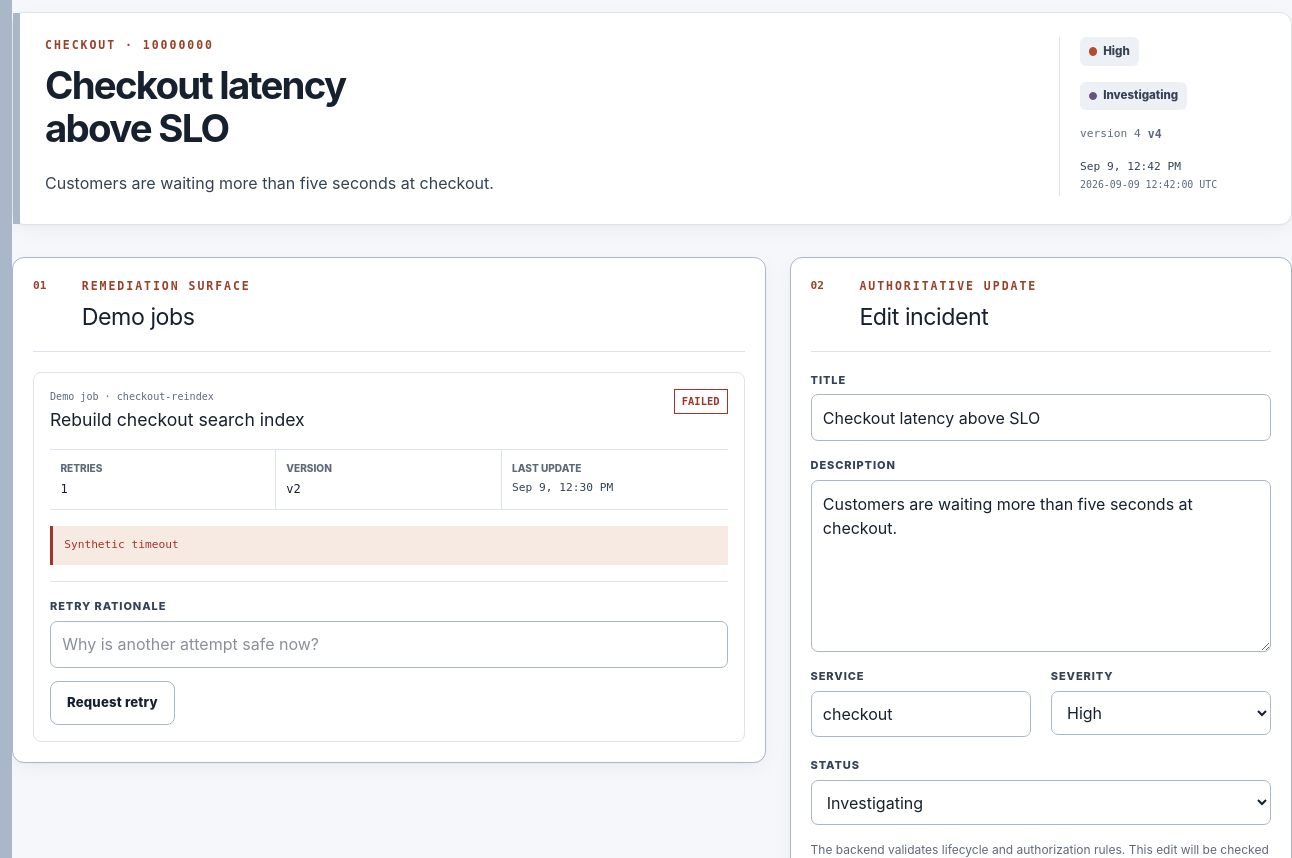
Test: IncidentDetailScreen › sends the rendered incident version when saving an edit
This screenshot has width=1292, height=858.
Replace the text in the text box labelled "Description" with "Checkout errors are now isolated to card payments.": (1041, 566) [811,480,1271,652]
(page scrolled)
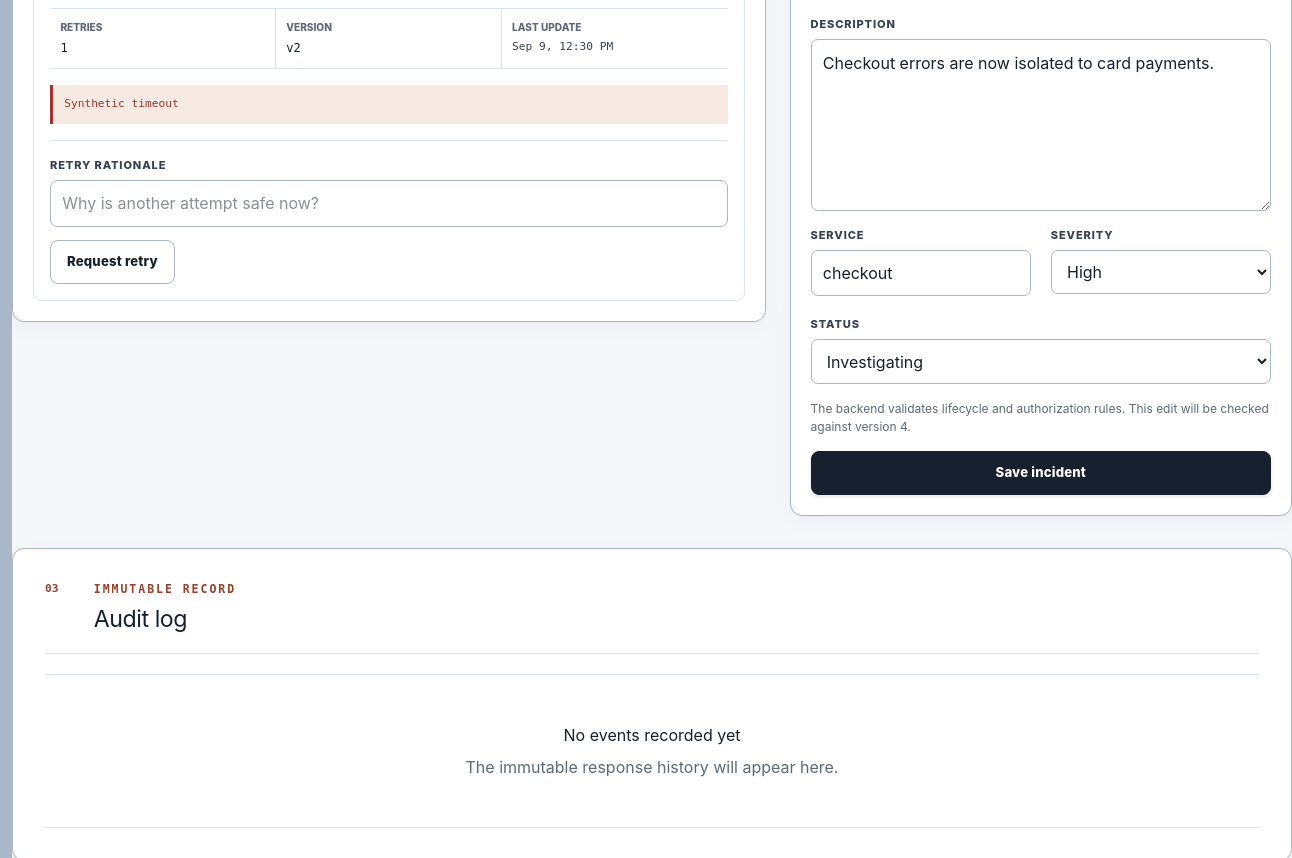
Click the button "Save incident": (1041, 473) [811,451,1271,495]
(page scrolled)
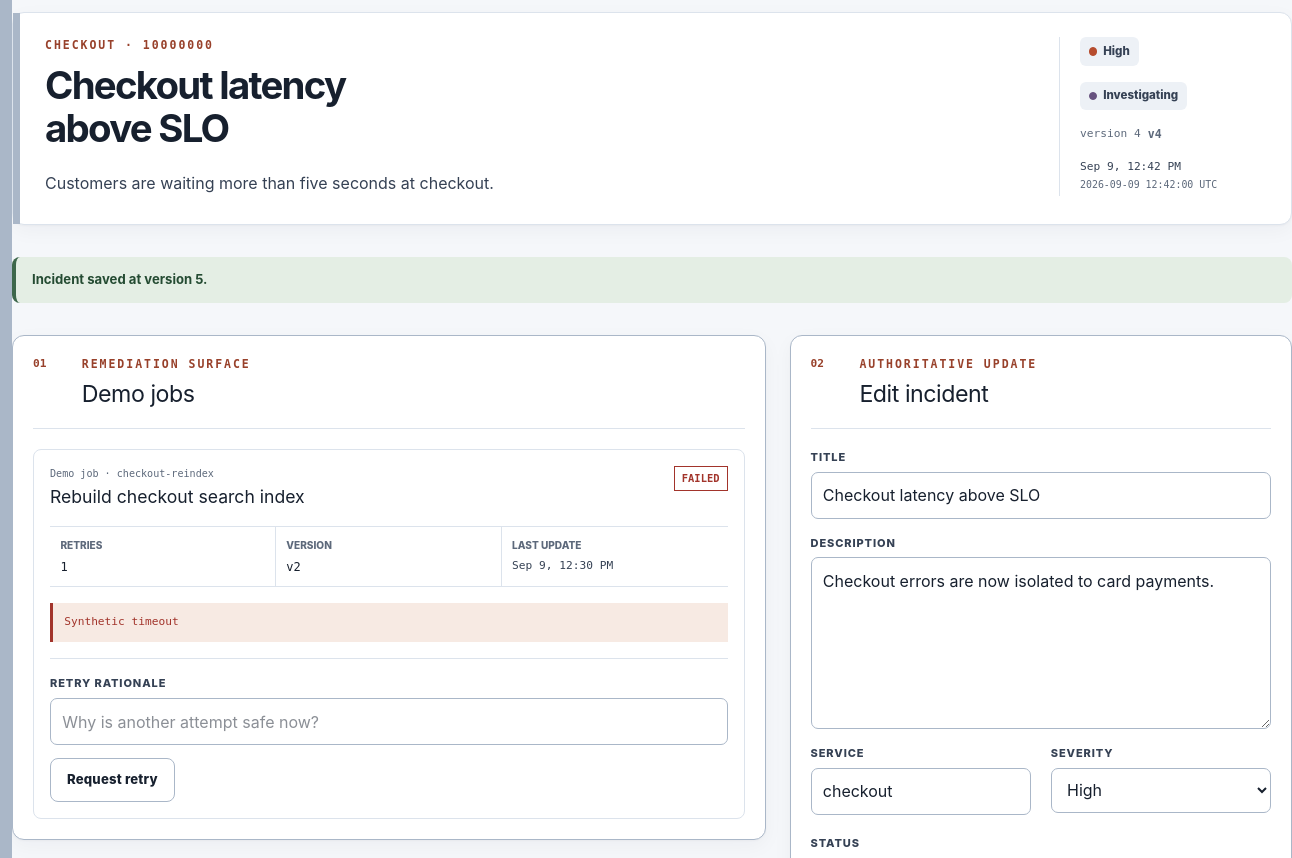
expect the text "Incident saved at version 5." is shown: met, box [12,257,1291,303]
